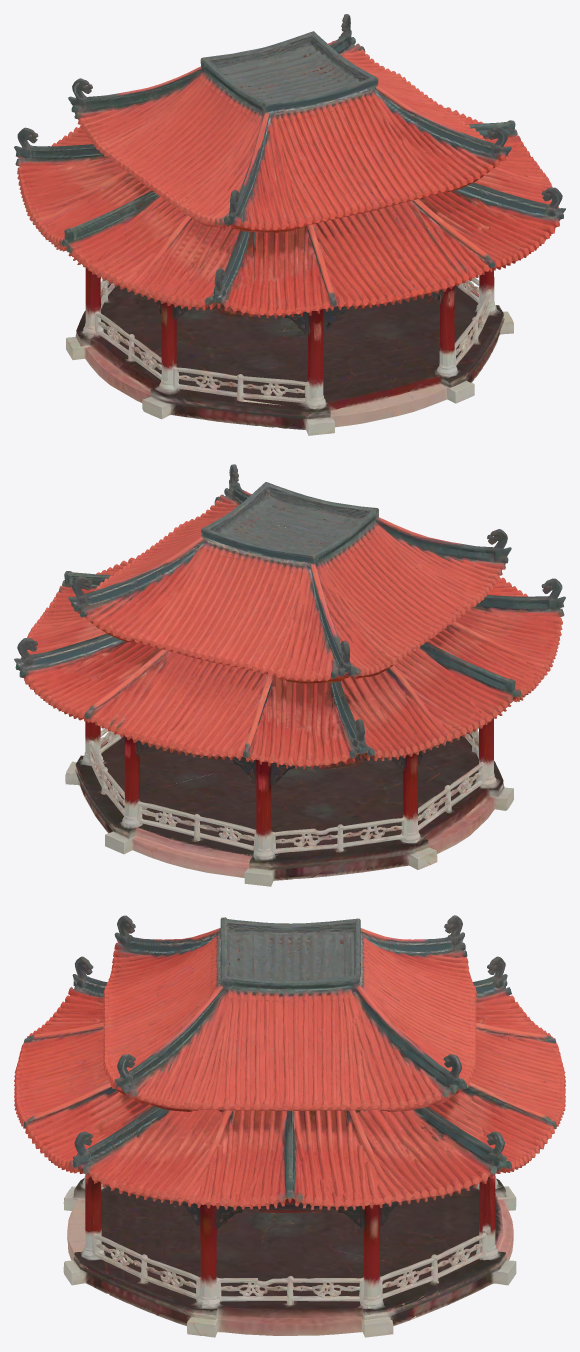
The model's file is lib_garden_pav.hd.glb.
3 renders of one model, top to bottom at view 1: azimuth 30°, elevation 25°; view 2: azimuth 150°, elevation 25°; view 3: azimuth 270°, elevation 25°, orthographic. The views are drawn at different scales.
Visible parts, largest first — view 1: output_unwrapped; view 2: output_unwrapped; view 3: output_unwrapped.
Part boxes in pixels (left/top/right/bottom): output_unwrapped: left=14, top=14, right=565, bottom=435; output_unwrapped: left=14, top=464, right=565, bottom=886; output_unwrapped: left=14, top=915, right=565, bottom=1337.
Size of the model in its own units: 2 by 1.15 by 1.96.
Materials: 1 (1 with a texture image).
